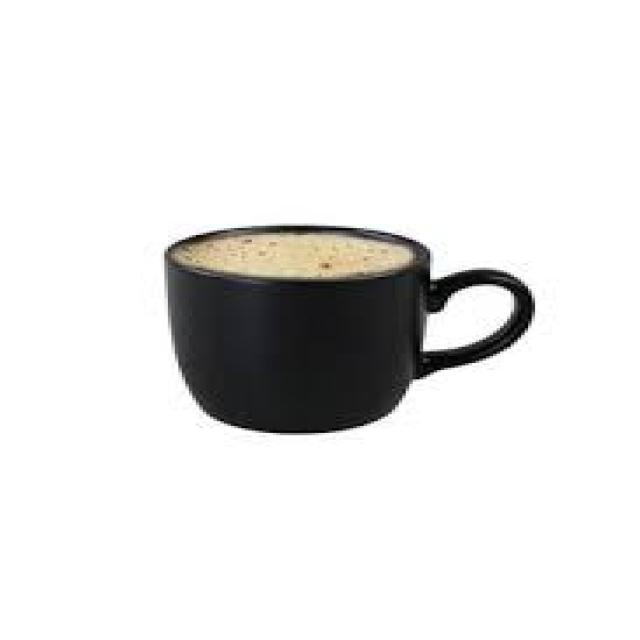taza: (160, 223, 538, 436)
